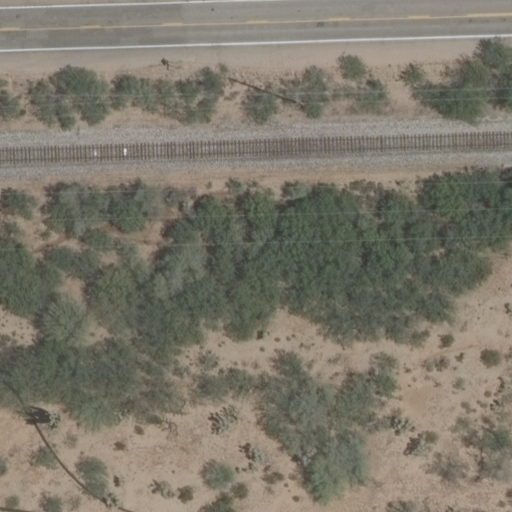DT: (227, 76, 308, 109)
